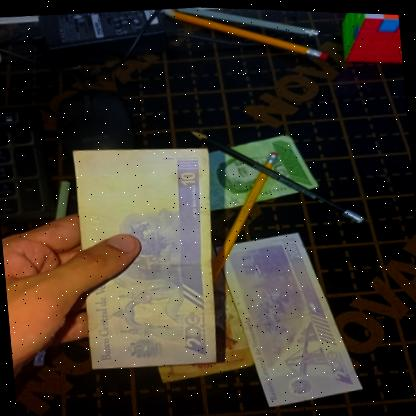fifty-front-vef: (204, 127, 320, 213)
ten-back-vef: (72, 139, 226, 374)
two_hundred-back-vef: (214, 223, 364, 412)
